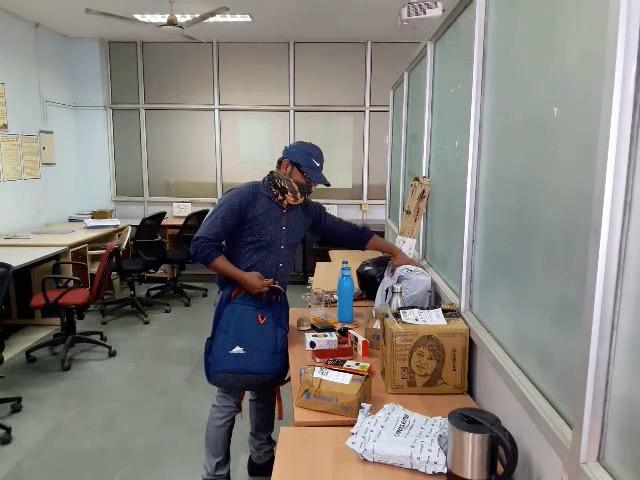Normal: (41, 23, 633, 461)
